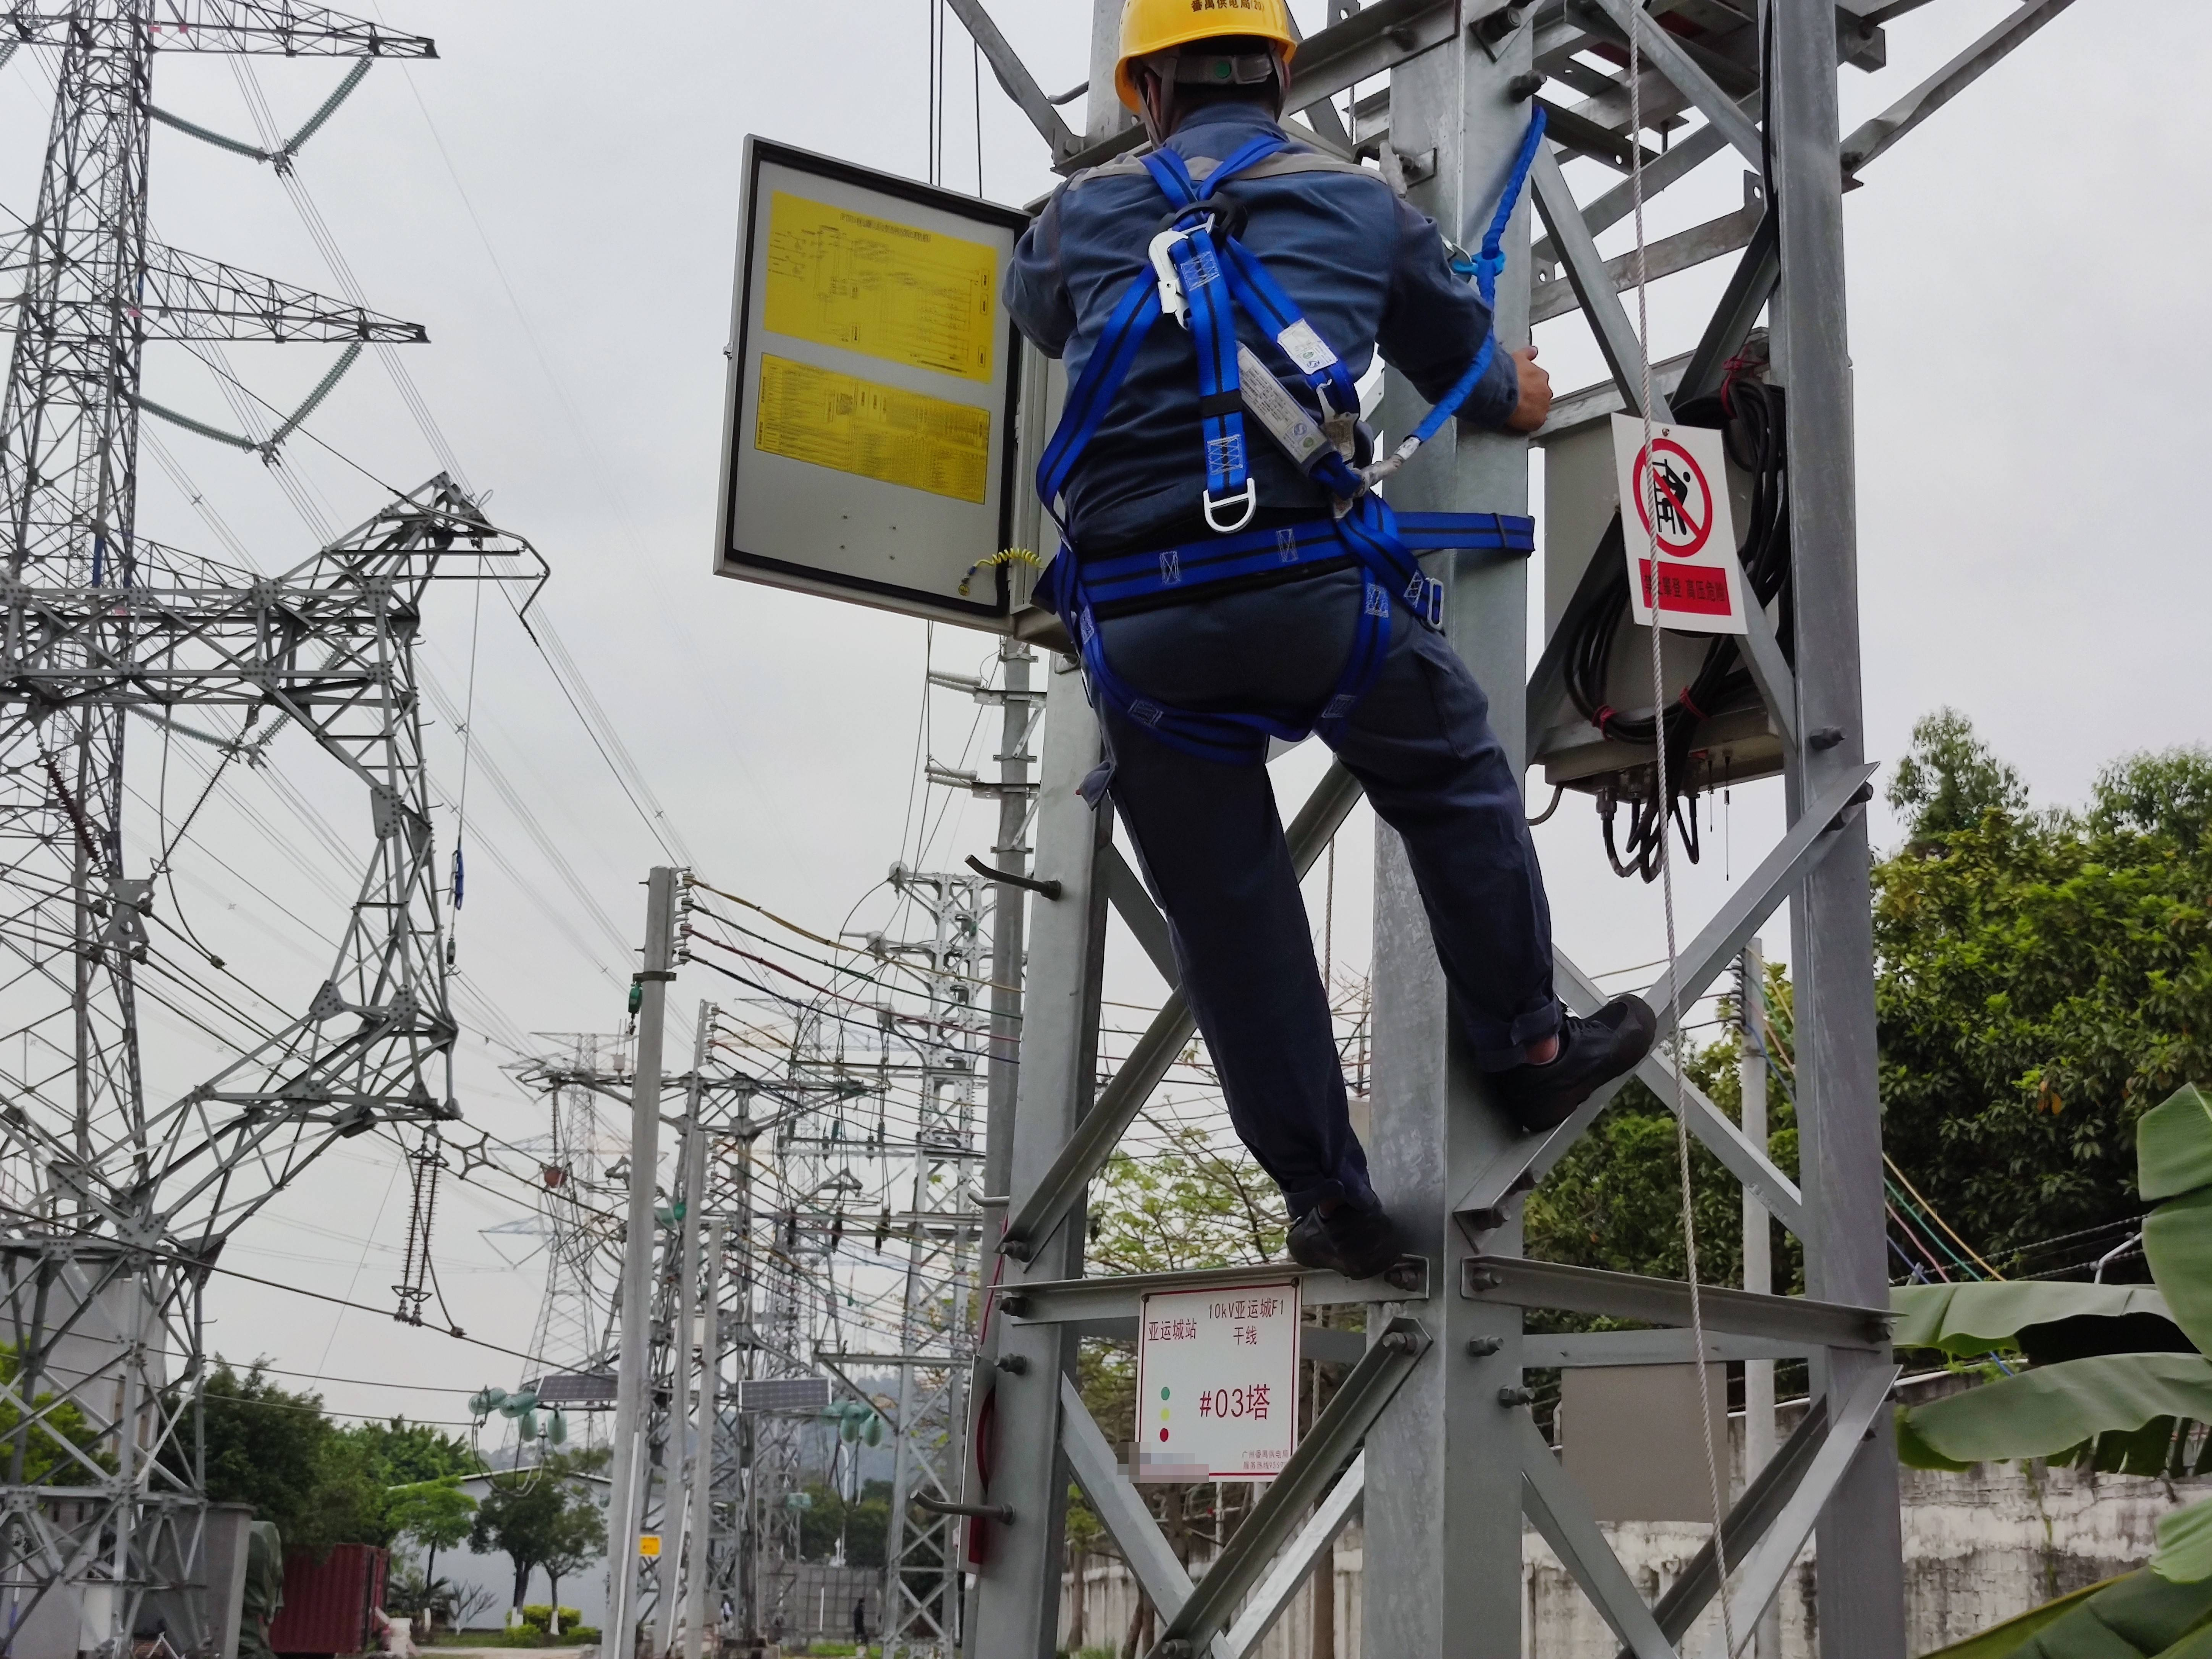downsuit: (1082, 561, 1571, 1199)
upsuit: (1031, 105, 1522, 545)
